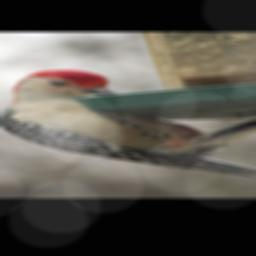Woodpecker: (0, 69, 256, 183)
